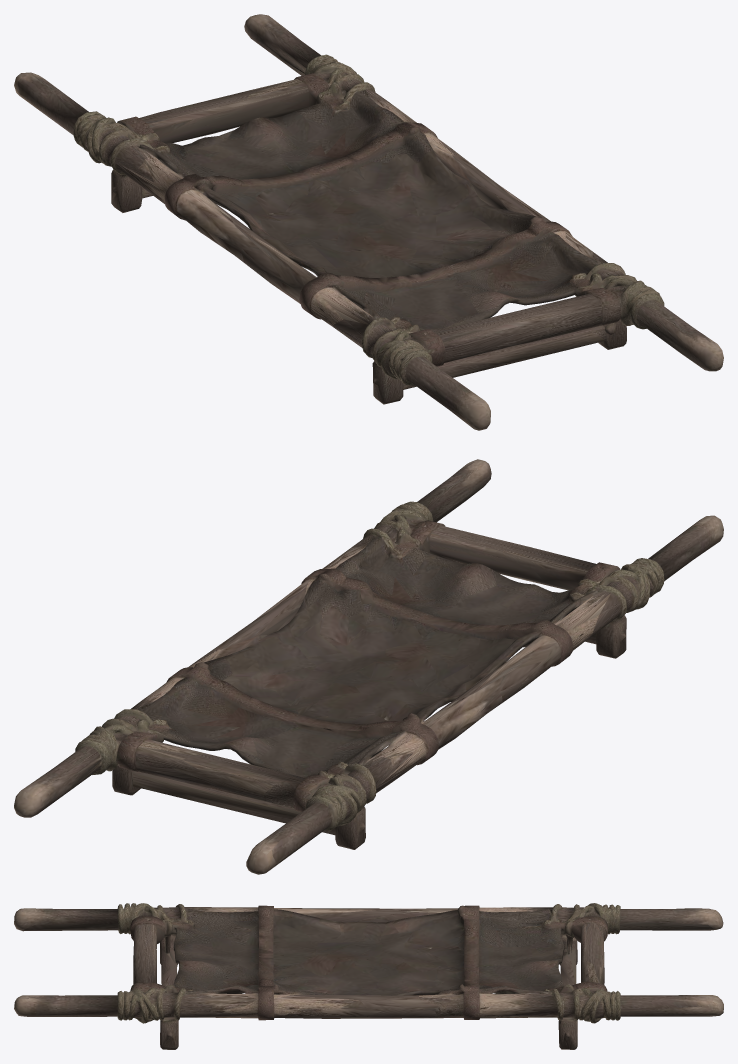
File: barella.gltf
3 views of the same model, one above another, from view 1: azimuth 30°, elevation 25°; view 2: azimuth 150°, elevation 25°; view 3: azimuth 270°, elevation 25° (orthographic). The views are drawn at different scales.
Parts seen in each view (by area): view 1: Mesh_0; view 2: Mesh_0; view 3: Mesh_0.
Boxes of the visible parts, x1,y1,x2,y2 form: Mesh_0: (14, 14, 723, 430); Mesh_0: (14, 459, 723, 874); Mesh_0: (14, 903, 723, 1049).
Size of the model in its own units: 0.8332 by 0.2338 by 2.5.
1 material, 1 textured.
